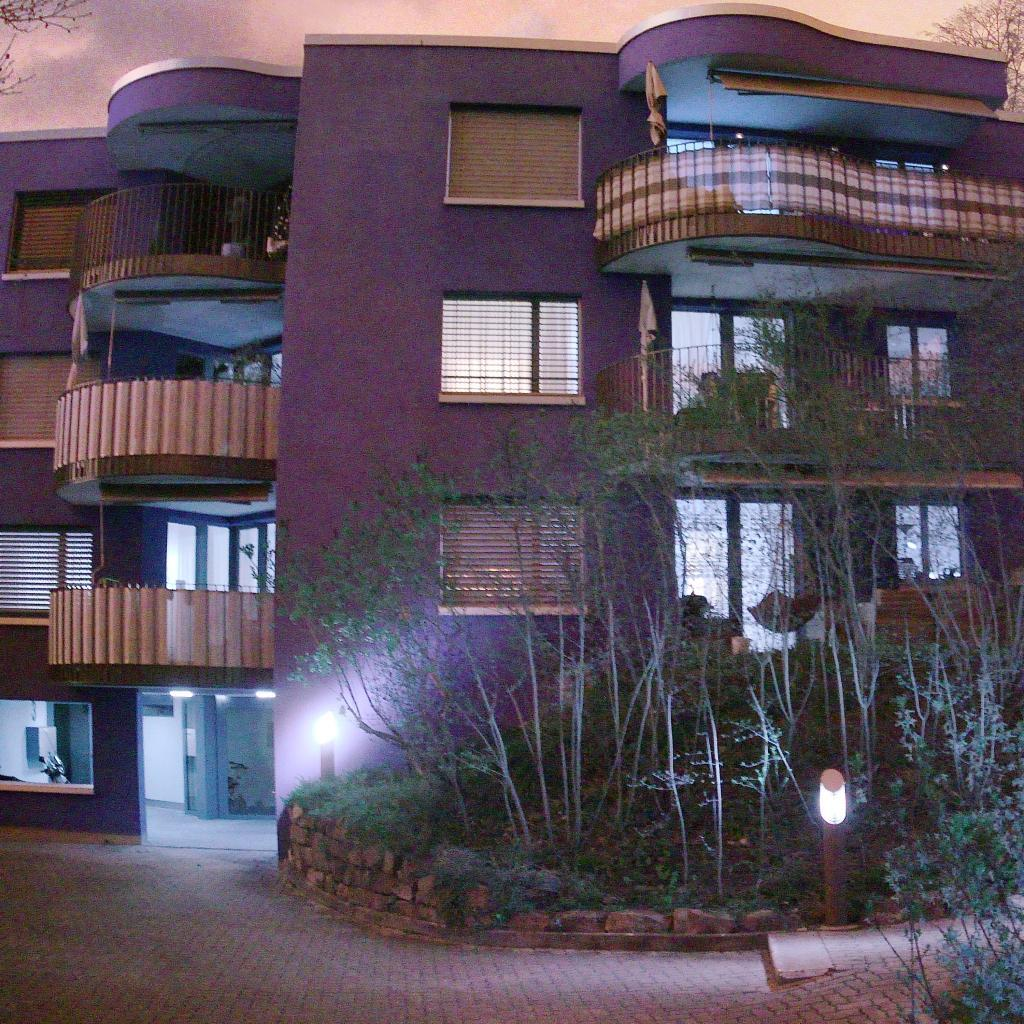balcony-fence: (594, 135, 1024, 269), (592, 341, 1024, 470), (66, 181, 292, 309), (51, 376, 283, 494), (45, 589, 277, 690)
facade: (0, 2, 1024, 848)
non-building-infrastructure: (276, 810, 823, 953)
street: (0, 805, 1024, 1024)
vegetation: (236, 231, 1024, 1024)
window: (670, 487, 804, 661), (439, 499, 602, 614), (668, 301, 796, 438), (439, 296, 584, 404), (451, 105, 578, 200), (3, 189, 118, 274), (0, 352, 99, 439), (0, 526, 96, 612), (889, 499, 968, 585), (883, 321, 956, 402), (165, 520, 197, 591), (207, 524, 230, 592), (238, 526, 260, 593), (872, 156, 938, 173), (666, 136, 715, 154), (175, 353, 206, 380), (265, 522, 276, 594), (212, 360, 235, 384), (243, 360, 262, 386), (269, 351, 282, 388)
